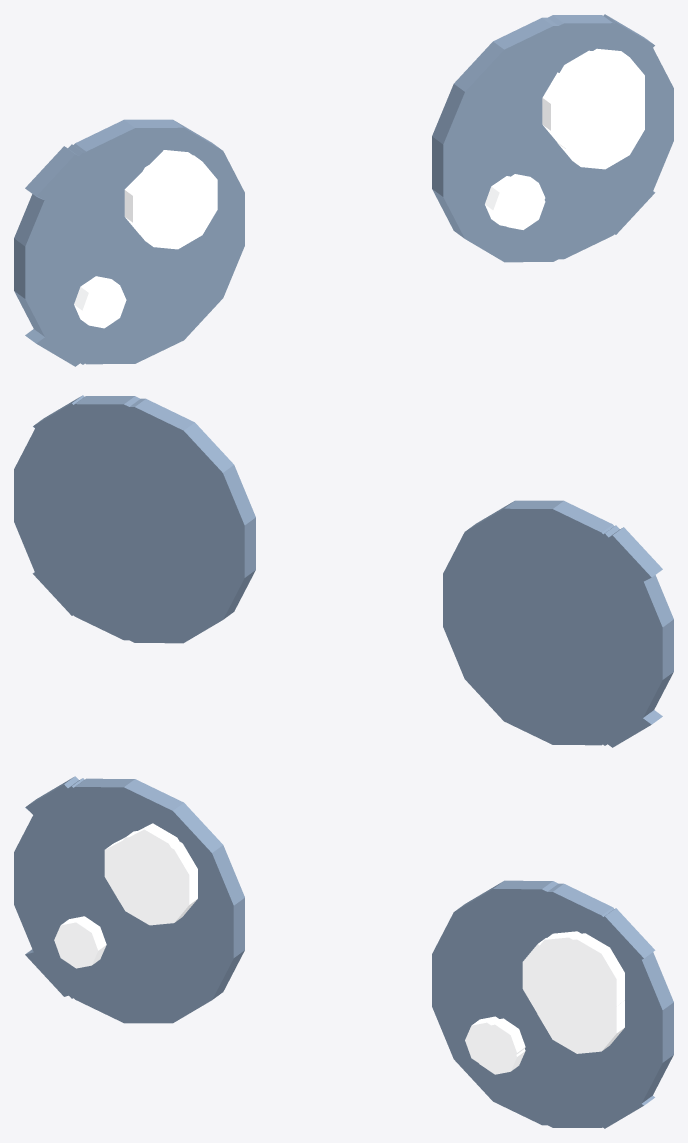
The model's file is ojos.glb.
3 renders of one model, top to bottom at view 1: azimuth 30°, elevation 25°; view 2: azimuth 150°, elevation 25°; view 3: azimuth 330°, elevation 25°, orthographic.
Visible parts, largest first — view 1: normal, guino, triste, pensando, doble_guino; view 2: normal, guino, triste, pensando, doble_guino; view 3: normal, triste, guino, pensando, doble_guino.
Boxes of the visible parts, bbox=[...] form: normal: bbox=[25, 15, 673, 364]; guino: bbox=[25, 17, 662, 366]; triste: bbox=[28, 52, 673, 364]; pensando: bbox=[14, 103, 656, 364]; doble_guino: bbox=[44, 14, 655, 364]; normal: bbox=[14, 396, 662, 745]; guino: bbox=[27, 398, 662, 747]; triste: bbox=[14, 437, 662, 745]; pensando: bbox=[14, 470, 673, 744]; doble_guino: bbox=[32, 395, 643, 745]; normal: bbox=[14, 778, 673, 1127]; triste: bbox=[14, 803, 662, 1127]; guino: bbox=[25, 776, 631, 1125]; pensando: bbox=[14, 810, 662, 1127]; doble_guino: bbox=[33, 778, 655, 1128].
Size of the model in its own units: 1 by 0.3476 by 0.0529.
